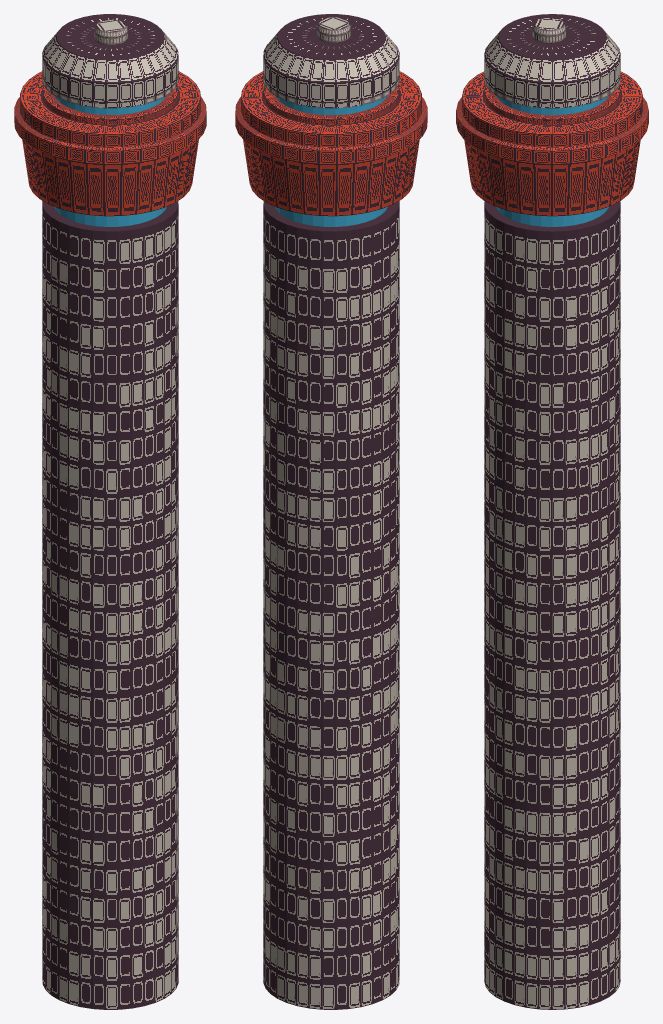
Rendered from pillar.glb.
The picture shows the model from 3 angles, left to right: view 1: azimuth 30°, elevation 25°; view 2: azimuth 150°, elevation 25°; view 3: azimuth 270°, elevation 25°; orthographic projection.
Parts seen in each view (by area): view 1: Cylinder; view 2: Cylinder; view 3: Cylinder.
Part boxes in pixels (left/top/right/bottom): Cylinder: left=14, top=14, right=206, bottom=1009; Cylinder: left=235, top=14, right=427, bottom=1009; Cylinder: left=456, top=14, right=648, bottom=1009.
Bounding box in the file's own units: 2.83 × 15.47 × 2.83.
1 material, 1 textured.
